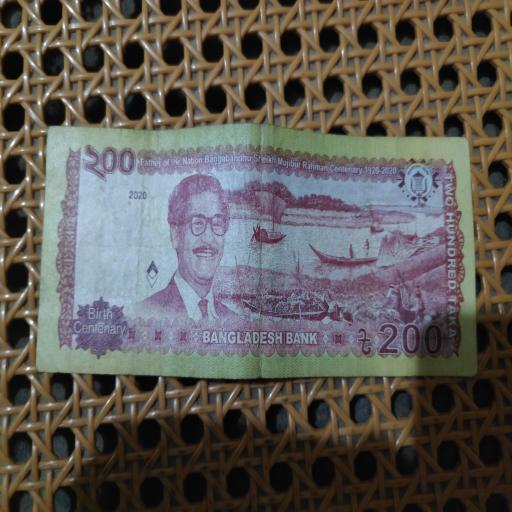200taka: (46, 126, 483, 386)
